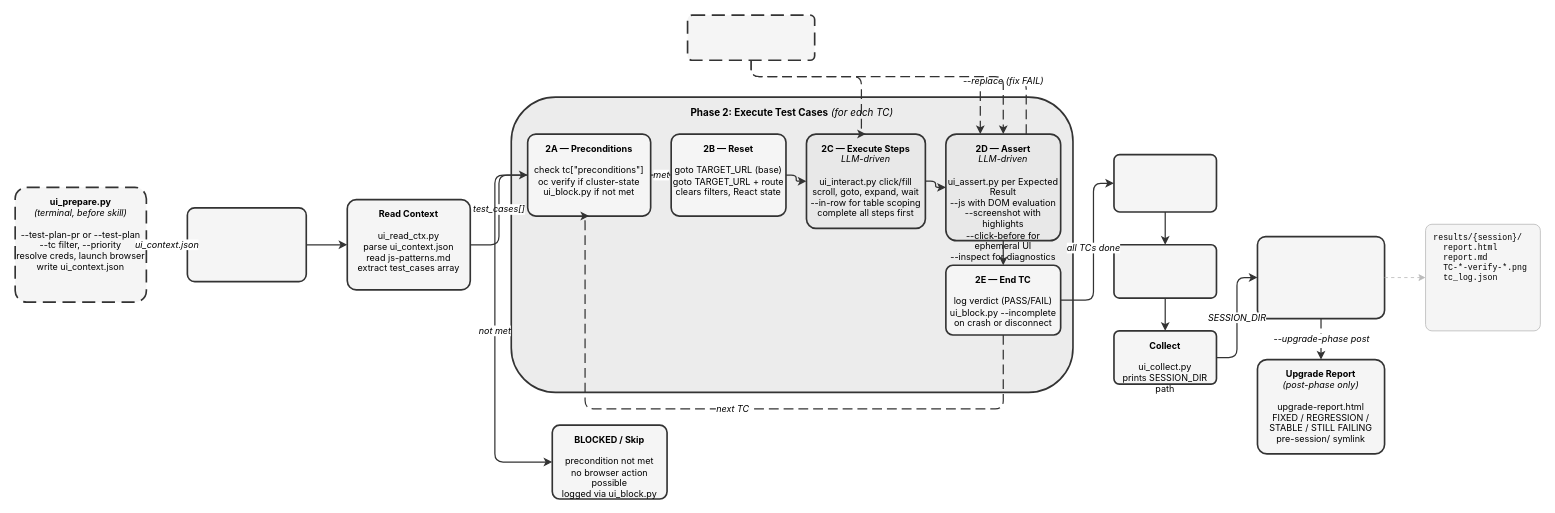
The diagram is 1555 pixels wide and 513 high, and some of its shapes have lost their labels. Each missing label, with the centre of its shape:
/test-plan.ui-verify (no arguments) invoked after ui_prepare.py: point (246, 244)
Cleanup ui_cleanup.py always runs, even on failure: point (1165, 271)
ODH / RHOAI Cluster (live, via Playwright CDP): point (750, 37)
Report ui_report.py report.html (visual, screenshots) report.md (plain-text): point (1320, 277)
Stop Browser ui_stop_browser.py close CDP connection: point (1165, 182)
